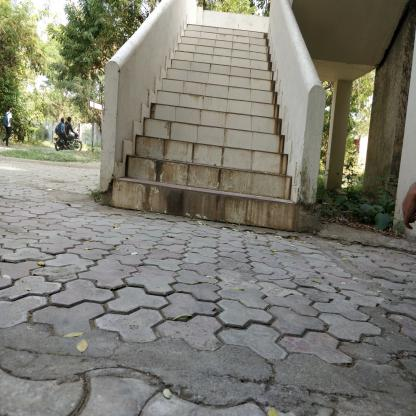stairs: (187, 24, 268, 238)
